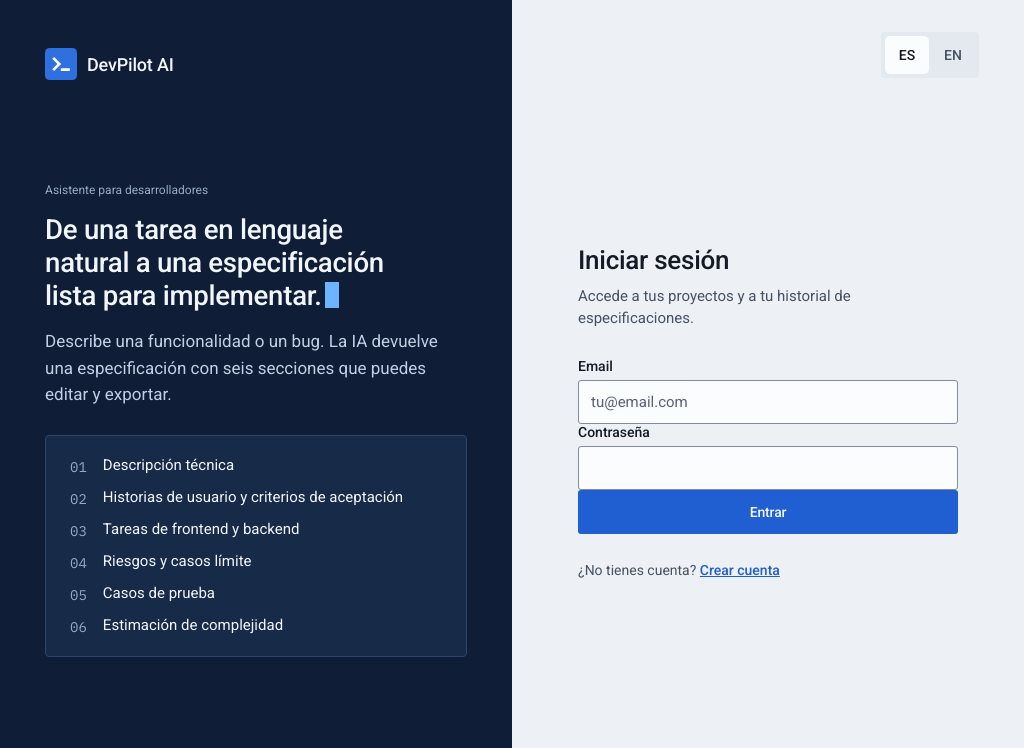
Test: signing in › opens the application after a successful login
Type "lucia@example.com" into the field labelled "Email" at (768, 402), box left=578, top=380, right=958, bottom=424
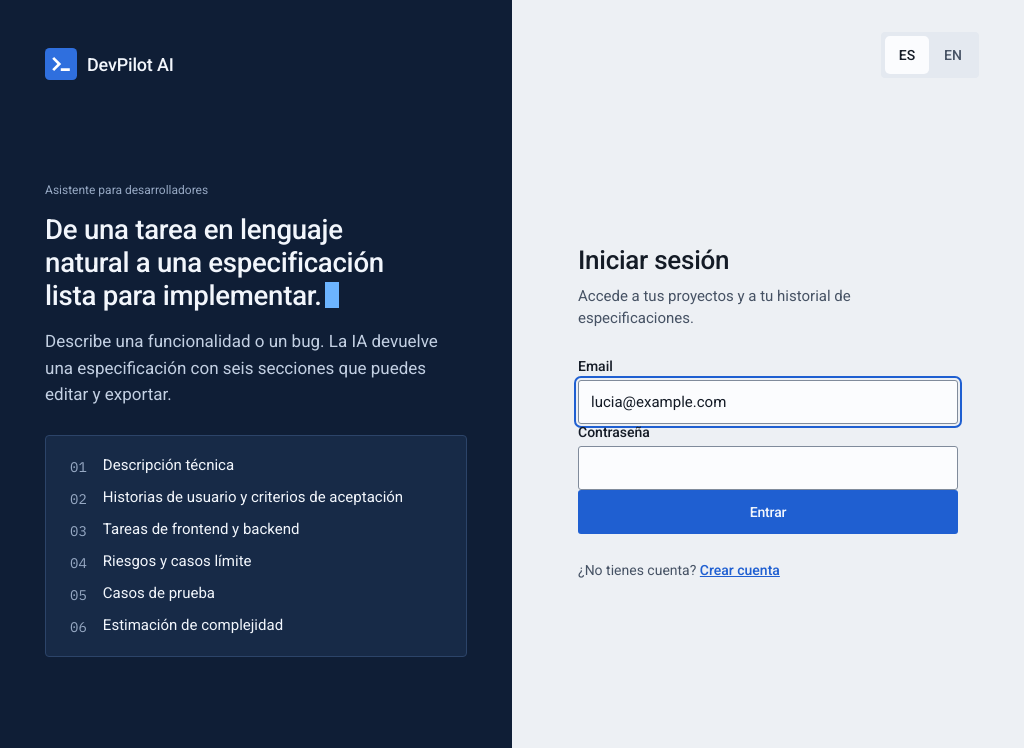
Type "correct horse battery" into the password field labelled "Contraseña" at (768, 468), box left=578, top=446, right=958, bottom=490
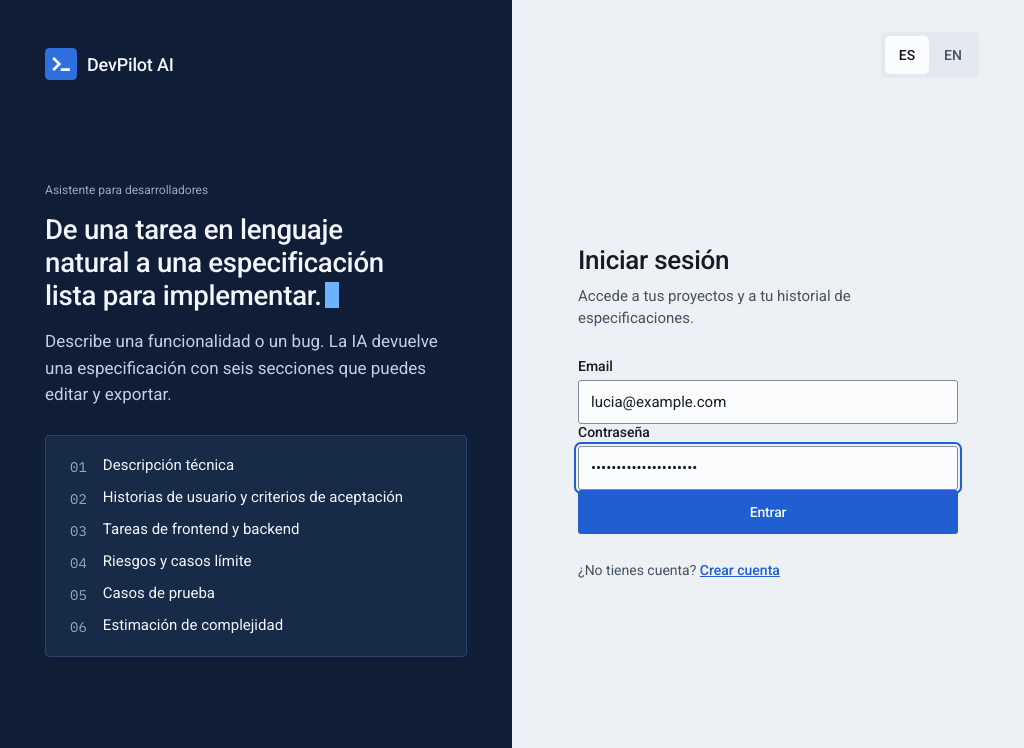
Click the button "Entrar" at (768, 512), box left=578, top=490, right=958, bottom=534
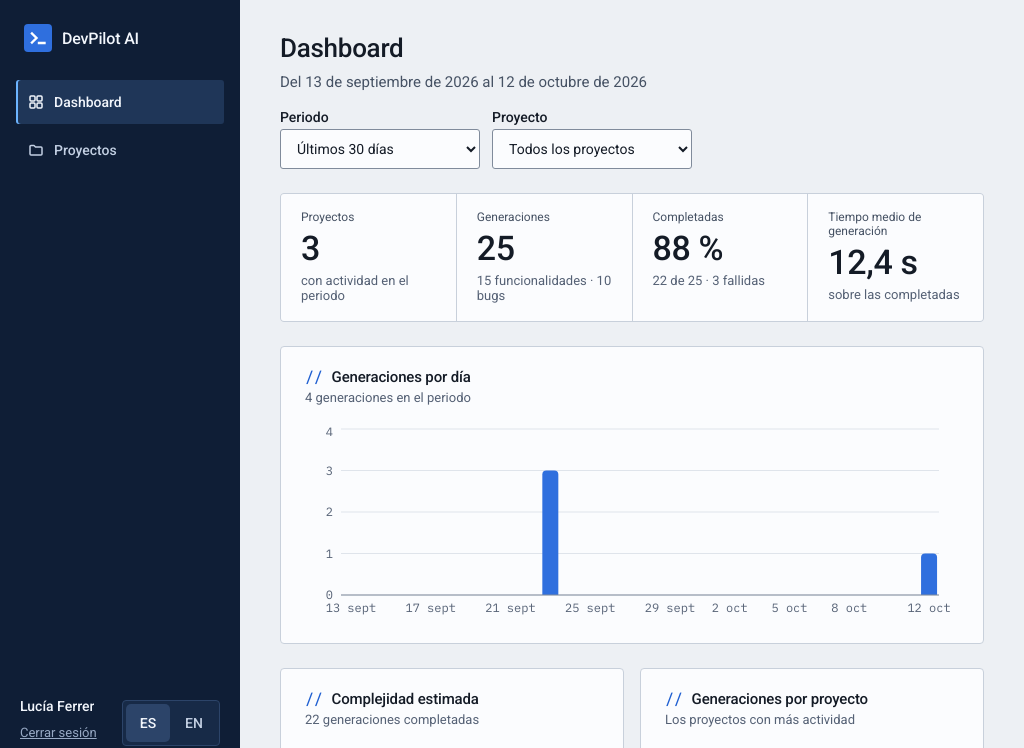
Check: the heading "Dashboard" is shown, box left=280, top=33, right=404, bottom=63
